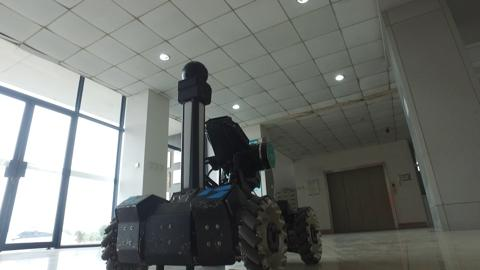chariot: (93, 57, 330, 270)
